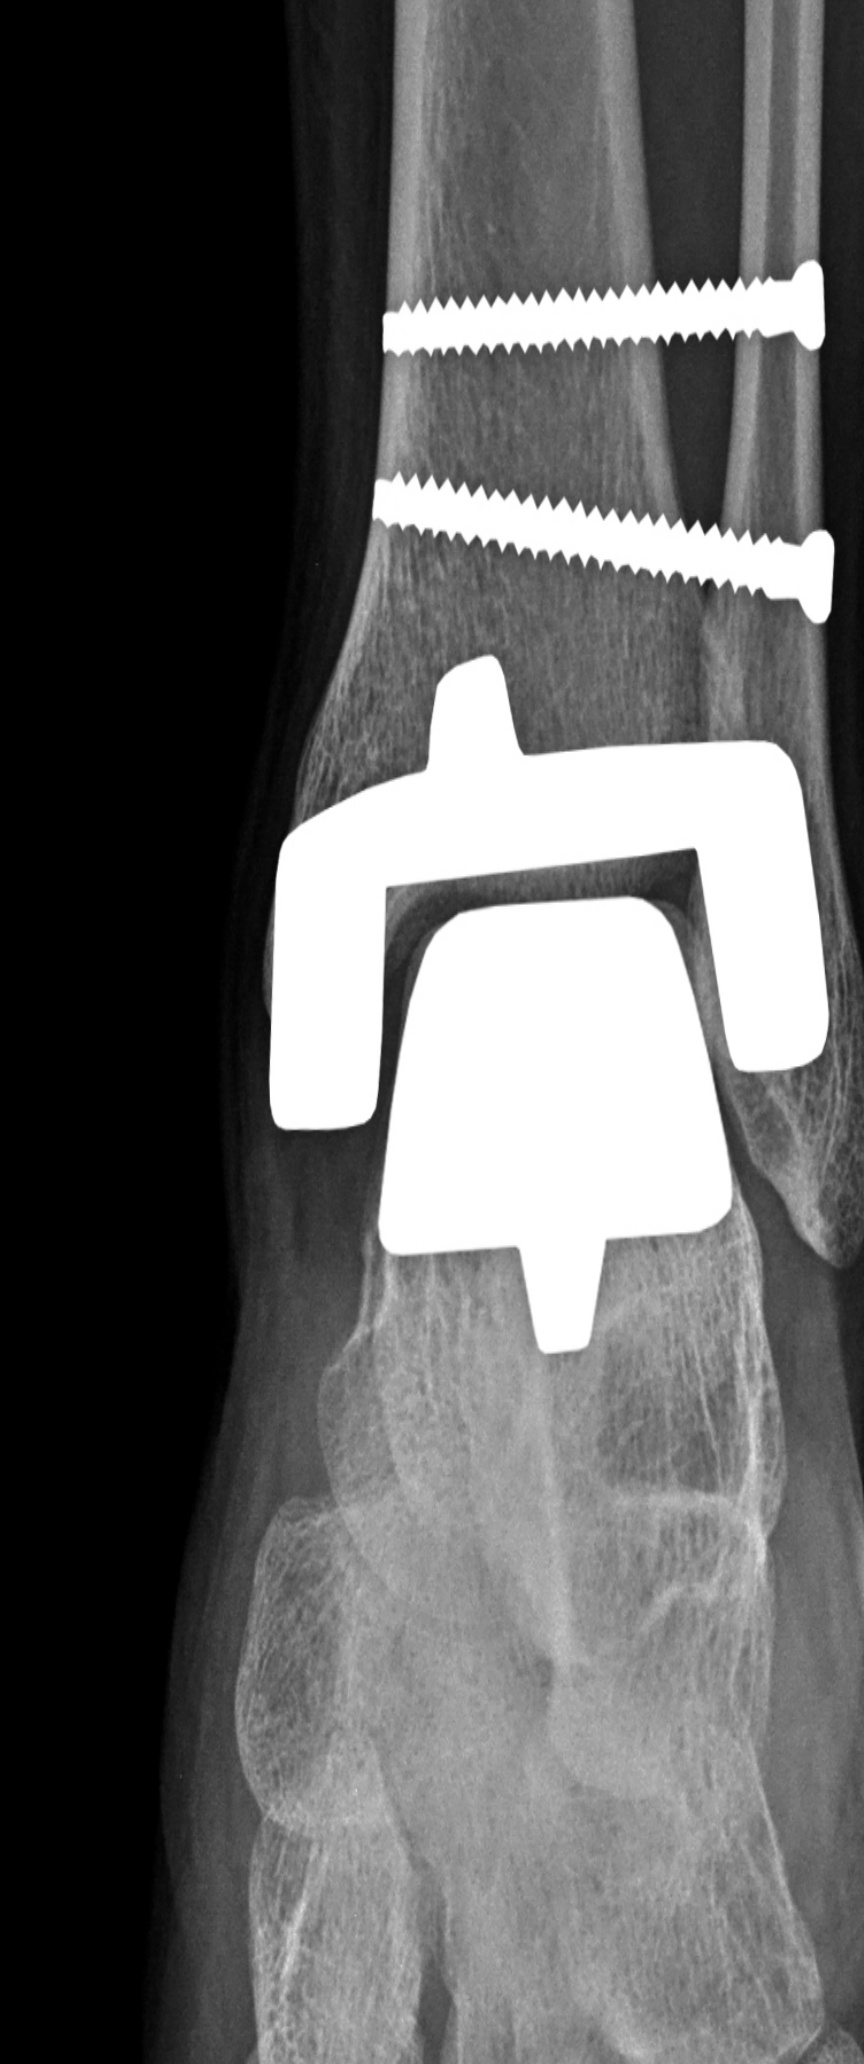Agility-Depuy: (248, 238, 842, 1362)
